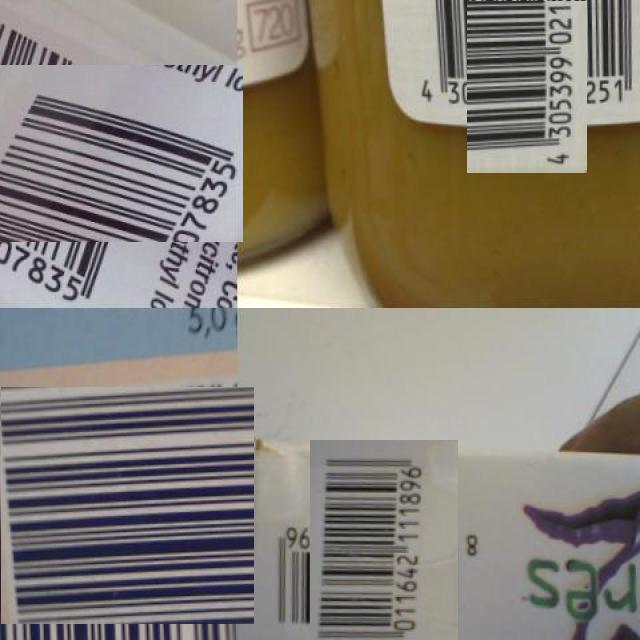Barcode: (0, 379, 246, 633), (0, 33, 211, 276), (284, 466, 485, 640), (440, 0, 614, 147)
